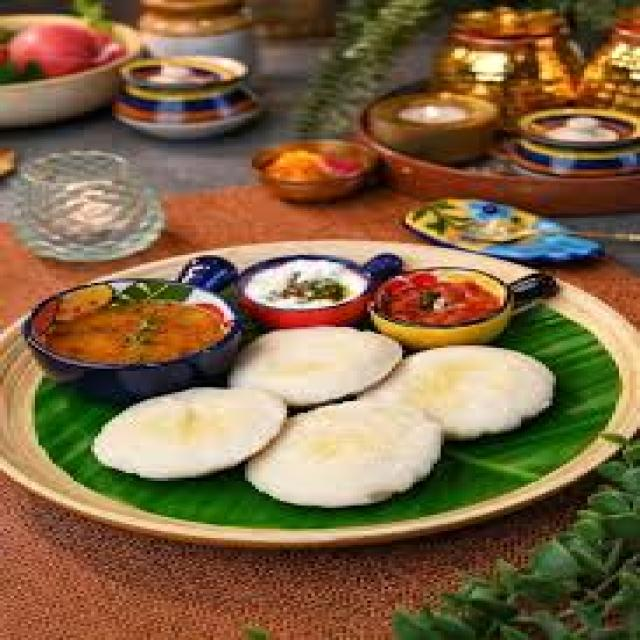IDLI: (245, 403, 437, 503), (91, 390, 283, 478), (371, 346, 553, 436), (231, 327, 399, 406)
